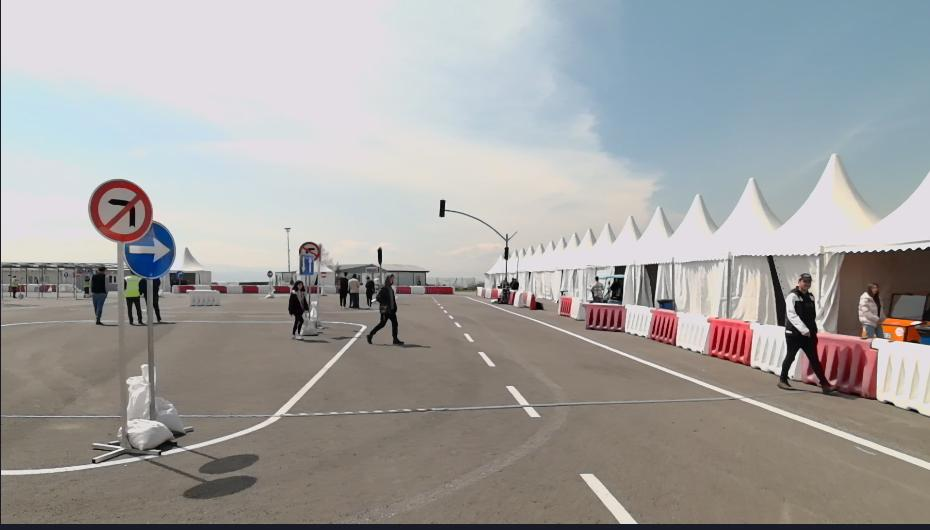nesne: (0, 293, 930, 524), (0, 292, 635, 522), (432, 293, 926, 523), (468, 293, 927, 471), (163, 318, 369, 455), (583, 303, 788, 374), (810, 331, 927, 411), (0, 301, 374, 326), (779, 271, 824, 391), (873, 339, 930, 414), (89, 178, 153, 242), (127, 363, 171, 452), (815, 334, 874, 397), (0, 454, 146, 477), (577, 472, 635, 522), (447, 207, 517, 248), (126, 220, 176, 277), (366, 273, 403, 343), (877, 292, 928, 340), (93, 425, 161, 460), (707, 320, 752, 366), (142, 396, 188, 436), (750, 327, 787, 373), (115, 241, 124, 428), (673, 310, 707, 352), (146, 278, 156, 417), (857, 281, 881, 333), (585, 303, 626, 333), (644, 308, 677, 345), (138, 275, 162, 322), (126, 269, 145, 325), (288, 282, 308, 334), (506, 384, 538, 415), (92, 265, 109, 323), (177, 283, 268, 293), (623, 306, 647, 335), (392, 284, 454, 294), (186, 289, 219, 305), (511, 290, 536, 311), (602, 277, 623, 302), (561, 298, 583, 320), (347, 274, 359, 308), (299, 241, 320, 260), (300, 315, 321, 333), (474, 286, 499, 300), (282, 226, 290, 268), (592, 276, 605, 301), (317, 242, 321, 321), (365, 276, 375, 306), (425, 285, 454, 294), (477, 350, 494, 365), (340, 270, 346, 308), (497, 281, 508, 301), (410, 285, 429, 296), (298, 256, 311, 272), (656, 298, 674, 309), (397, 284, 414, 295), (10, 273, 18, 296), (274, 284, 289, 293), (211, 285, 227, 293), (178, 284, 192, 293), (192, 283, 210, 290), (376, 246, 383, 264), (509, 277, 519, 289), (242, 285, 257, 293), (226, 286, 242, 293), (440, 197, 446, 215), (257, 285, 269, 294), (324, 285, 336, 294), (501, 247, 510, 259), (307, 274, 310, 304), (463, 331, 472, 340), (265, 268, 274, 277), (175, 270, 184, 279), (378, 264, 381, 285), (504, 260, 507, 278), (270, 277, 272, 296)
